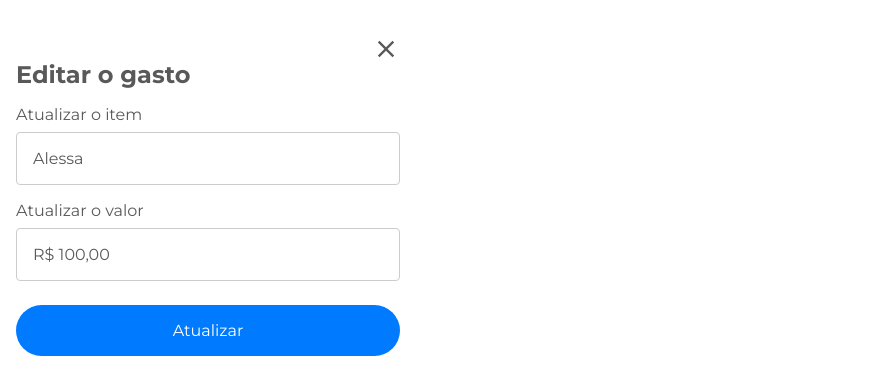
Scenario: Edit component › should display toast with error message on fetch failure
What coordinates should you click on to do the following:
click the button "Atualizar"
I would click on:
 (208, 330)
Its box is [16, 305, 400, 356].
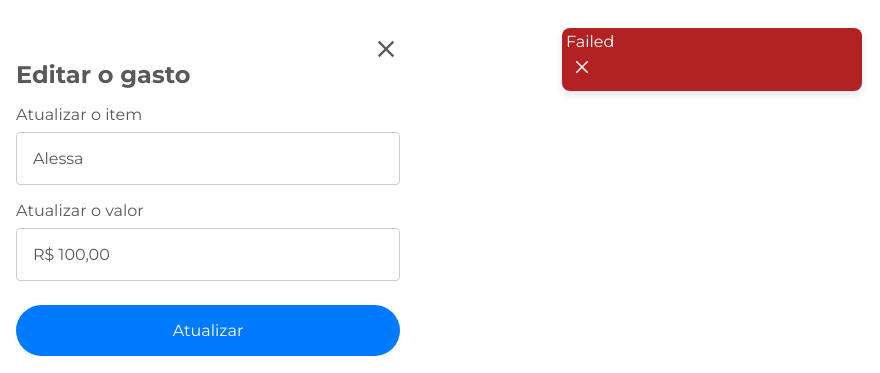
Now the text "Failed" is shown, box [566, 32, 614, 51]
